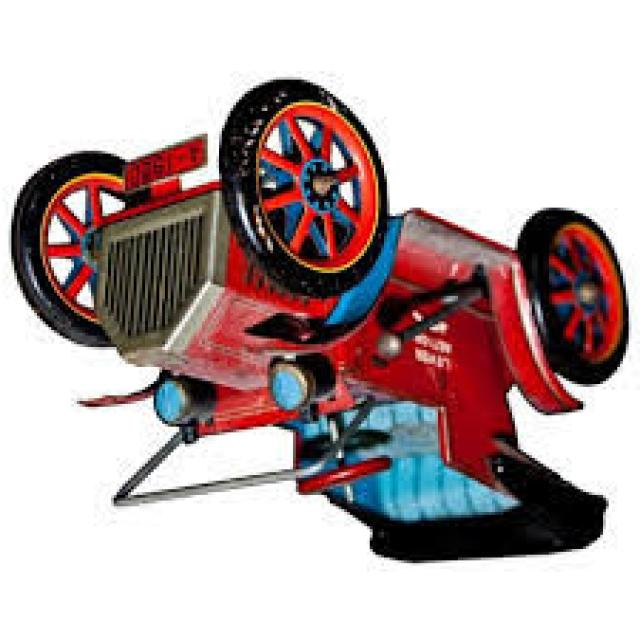Car: (11, 80, 632, 569)
